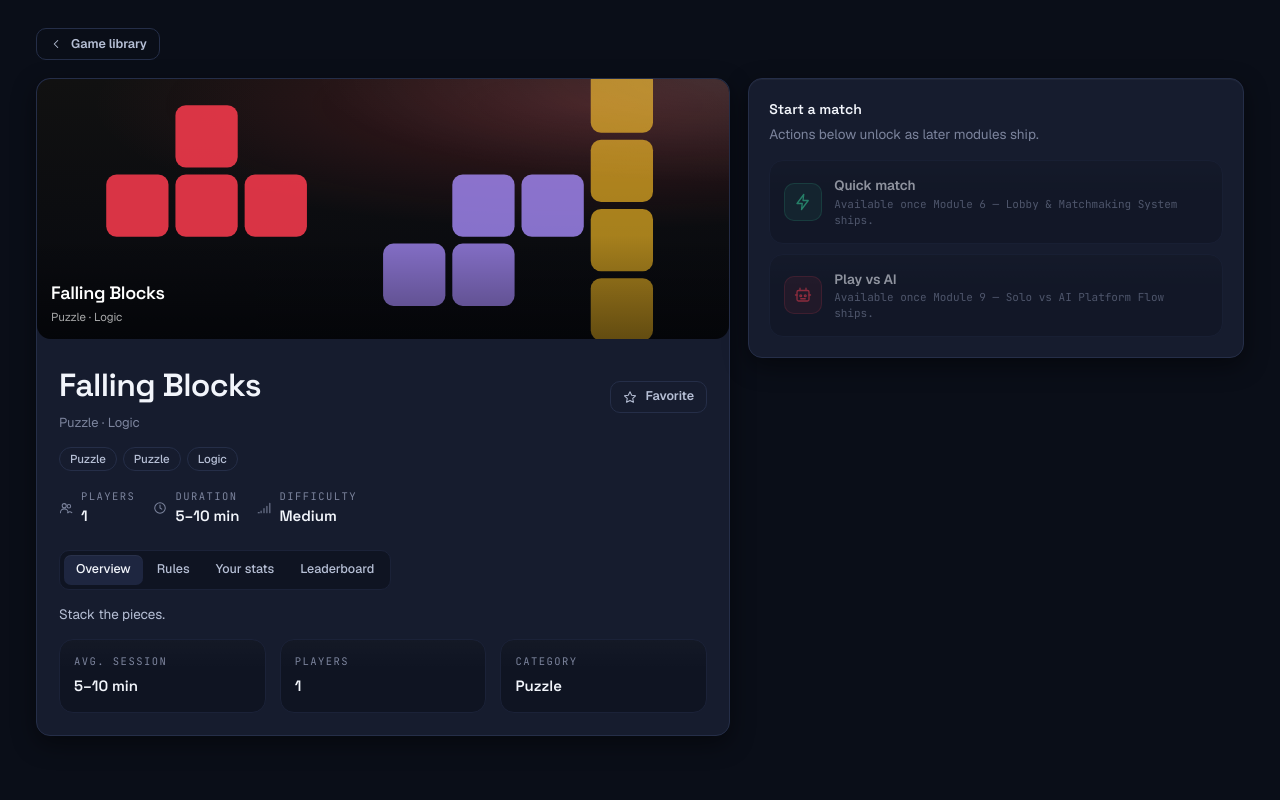
Scenario: GameDetailPage › does not render fake stats/leaderboard data — shows a deferred empty state instead
Expected: the 1st text "Falling Blocks" is shown, [51,281,165,304]
Click the tab "Your stats" at [245, 570], box [204,555,286,585]
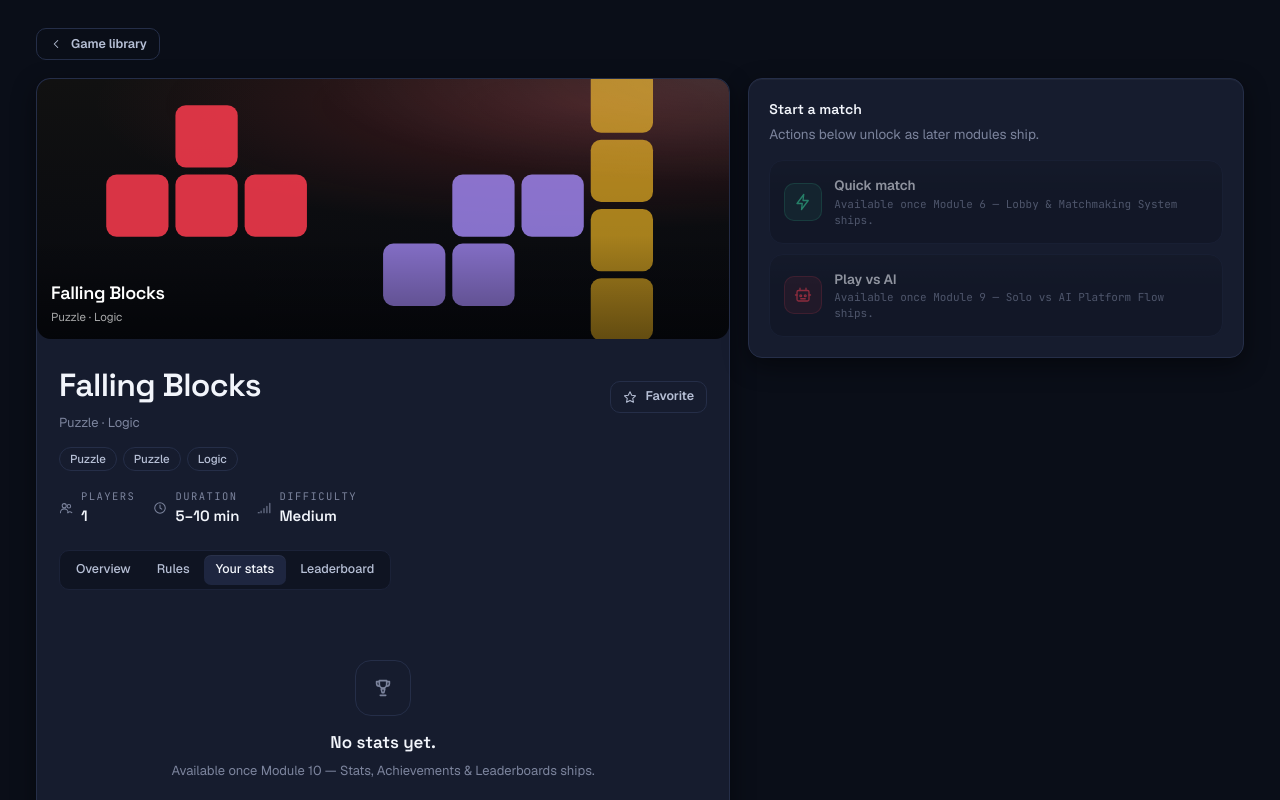
Now the text "No stats yet." is shown, box [330,731,436,753]
Now the text "Available once Module 10 — Stats, Achievements & Leaderboards ships." is shown, box [172,762,595,779]
